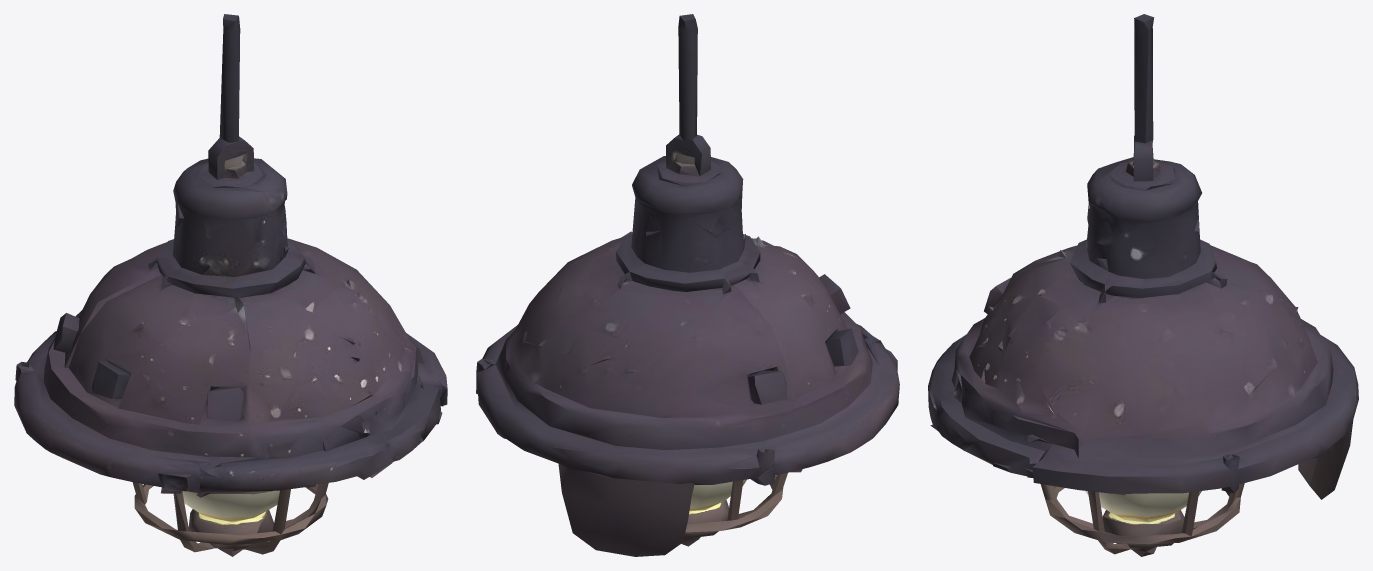
File: lamp_ceiling_idle.glb
3 views of the same model, side by side, from view 1: azimuth 30°, elevation 25°; view 2: azimuth 150°, elevation 25°; view 3: azimuth 270°, elevation 25° (orthographic).
Parts seen in each view (by area): view 1: tripo_node_656b1a2a-5d3d-4ec4-b019-4f45c372124e; view 2: tripo_node_656b1a2a-5d3d-4ec4-b019-4f45c372124e; view 3: tripo_node_656b1a2a-5d3d-4ec4-b019-4f45c372124e.
Part boxes in pixels (x1,y1,x2,y2): tripo_node_656b1a2a-5d3d-4ec4-b019-4f45c372124e: (14,14,447,556); tripo_node_656b1a2a-5d3d-4ec4-b019-4f45c372124e: (476,14,899,556); tripo_node_656b1a2a-5d3d-4ec4-b019-4f45c372124e: (928,14,1358,556).
Size of the model in its own units: 0.2915 by 0.3981 by 0.2905.
Materials: 1 (1 with a texture image).
